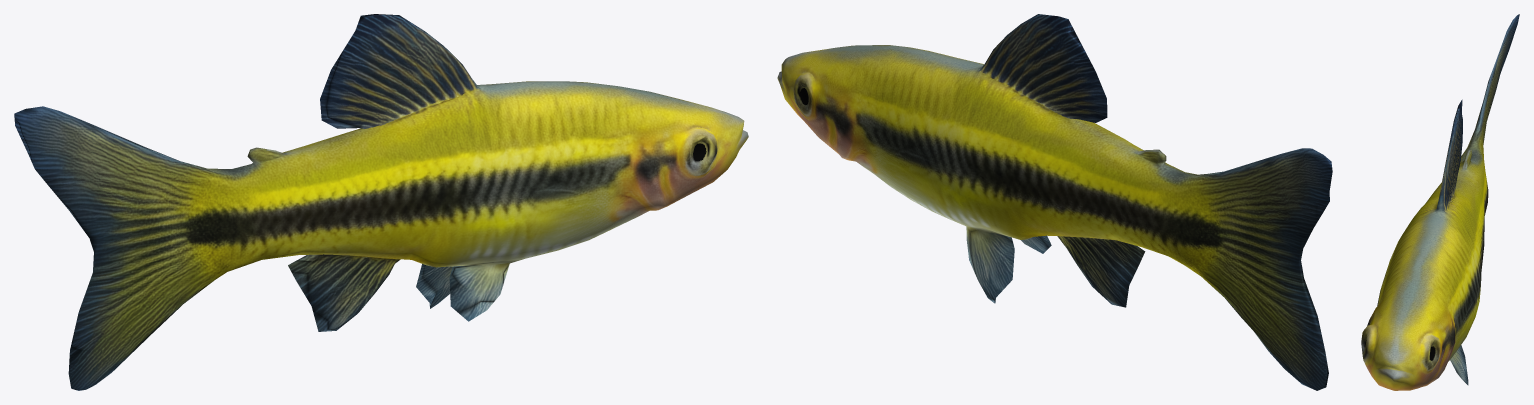
Rendered from tropicalfish_a4_single_1500.glb.
3 renders of one model, left to right at view 1: azimuth 30°, elevation 25°; view 2: azimuth 150°, elevation 25°; view 3: azimuth 270°, elevation 25°, orthographic. The views are drawn at different scales.
Bounding box in the file's own units: 0.9159 × 0.4221 × 0.2343.
Materials: 1 (1 with a texture image).
